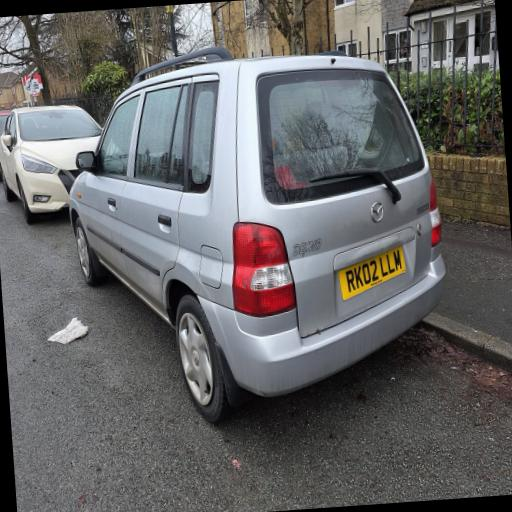numberplates: (339, 247, 405, 300)
